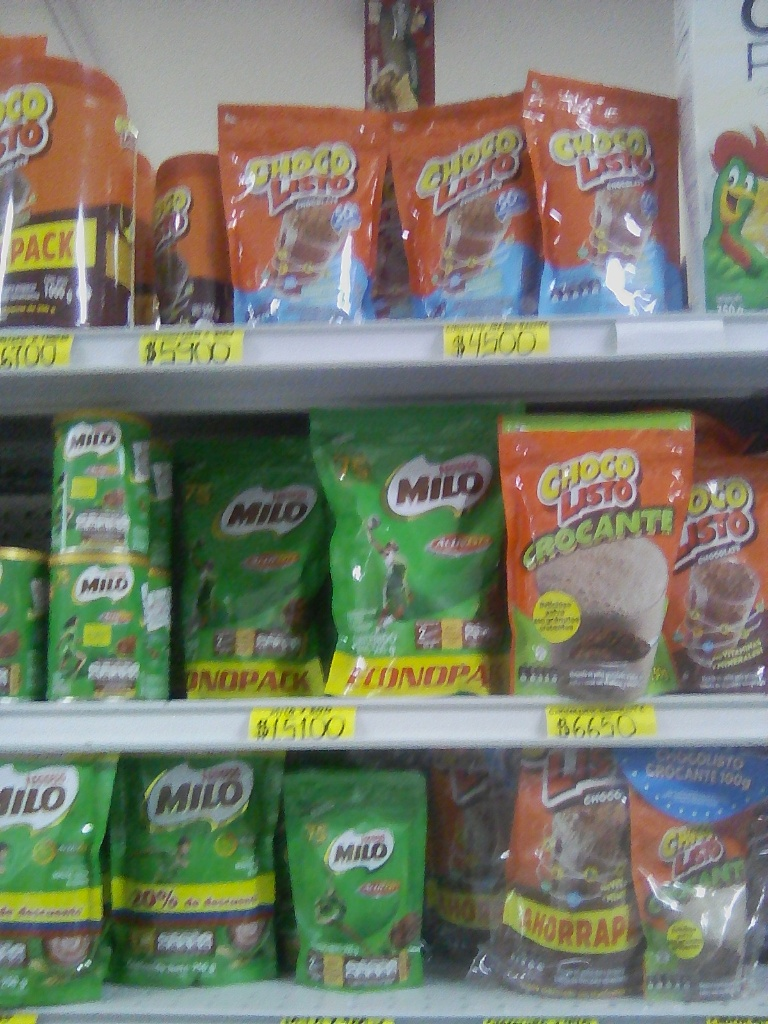COL0170102DYP10000: (630, 791, 764, 1008)
COL0170102DYP25000: (494, 408, 697, 716)
COL0170103DYP20000: (665, 443, 768, 696)
COL0170103DYP44000: (477, 750, 639, 991)
COL0170103TRR00100: (3, 50, 140, 341)
COL0170103TRR30000: (144, 149, 237, 326)
COL0170104DYP20000: (215, 100, 387, 322)
COL0170203DYP10000: (278, 766, 424, 991)
COL0170203DYP25000: (108, 758, 286, 996)
COL0170203DYP50000: (183, 434, 324, 695)
COL0170203LAT20000: (44, 410, 157, 555)
